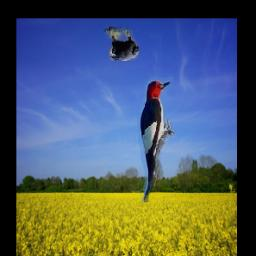Crow: (104, 26, 140, 61)
Woodpecker: (133, 72, 174, 203)
